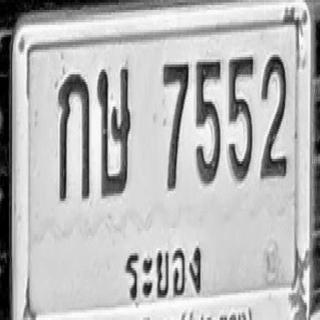A01: (58, 72, 90, 201)
A39: (97, 63, 132, 197)
N02: (260, 53, 287, 177)
N05: (228, 54, 254, 181), (195, 58, 221, 185)
N07: (162, 61, 189, 190)
P53: (120, 242, 207, 308)
